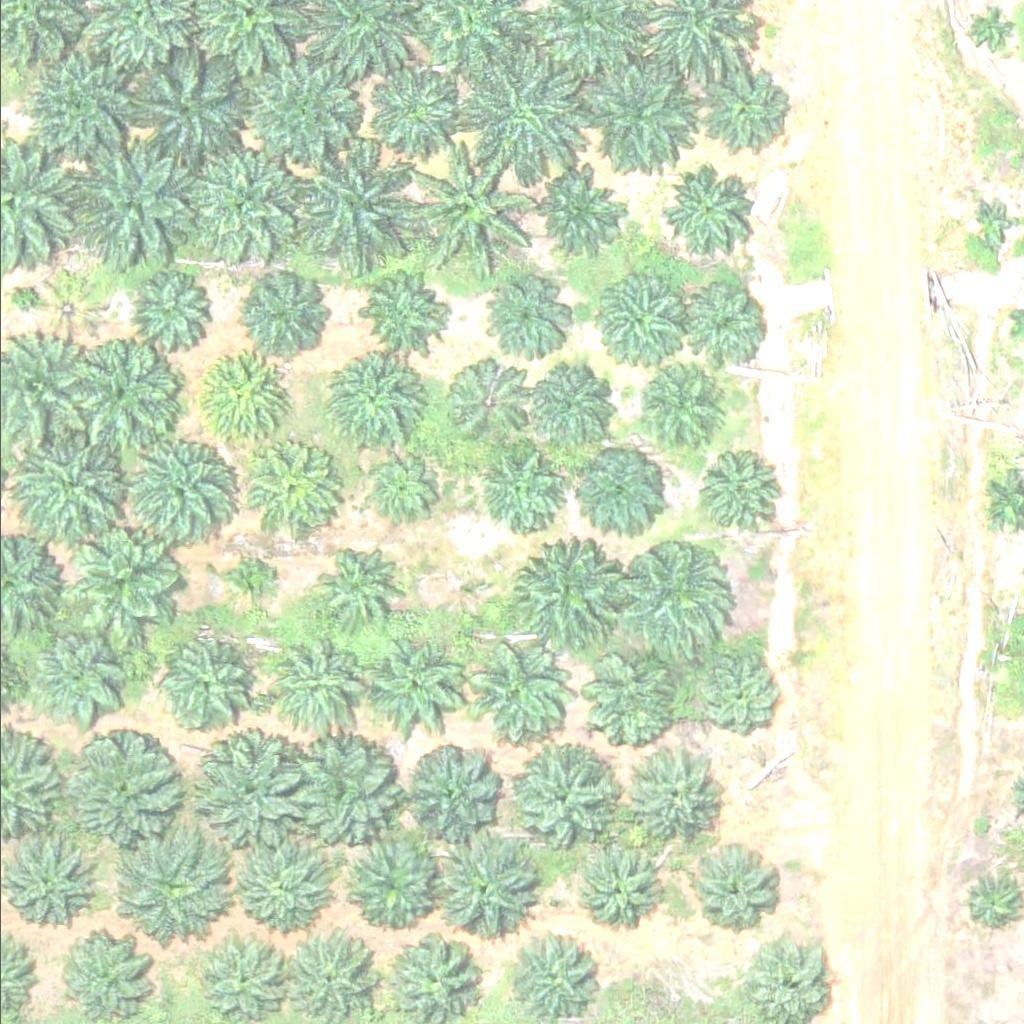Kelapa_Sawit: (456, 45, 582, 170), (230, 45, 356, 170), (123, 42, 249, 167), (14, 43, 140, 168), (59, 137, 185, 262), (287, 145, 413, 270), (403, 142, 529, 267), (115, 430, 241, 555), (59, 522, 185, 647), (609, 539, 735, 664), (578, 49, 703, 174), (185, 140, 310, 265), (117, 833, 230, 946), (190, 731, 303, 844), (69, 337, 183, 449), (429, 827, 542, 939), (501, 744, 614, 856), (282, 737, 395, 849), (497, 923, 598, 1023), (235, 838, 336, 938), (343, 830, 444, 930), (621, 746, 722, 846), (78, 733, 179, 833), (19, 627, 120, 727), (154, 638, 255, 738), (258, 638, 359, 738), (364, 633, 465, 733), (467, 648, 568, 748), (516, 551, 617, 651), (402, 742, 502, 842), (317, 355, 417, 455), (590, 652, 690, 752), (6, 840, 94, 928), (574, 839, 662, 927), (369, 70, 457, 158), (590, 273, 678, 361), (475, 278, 563, 366), (363, 266, 451, 354), (246, 270, 334, 358), (198, 356, 286, 444), (240, 442, 328, 530), (536, 170, 625, 257), (573, 444, 662, 531), (682, 276, 770, 363), (528, 363, 616, 450), (61, 933, 149, 1020), (685, 849, 773, 936), (692, 67, 780, 154), (666, 165, 754, 252), (127, 269, 215, 356), (447, 358, 535, 445), (636, 366, 724, 453), (693, 452, 781, 539), (466, 449, 554, 536), (689, 653, 777, 740), (316, 543, 404, 630), (363, 454, 438, 529), (960, 873, 1023, 936), (39, 276, 102, 338), (965, 200, 1016, 250), (229, 556, 279, 606), (965, 7, 1015, 57)
